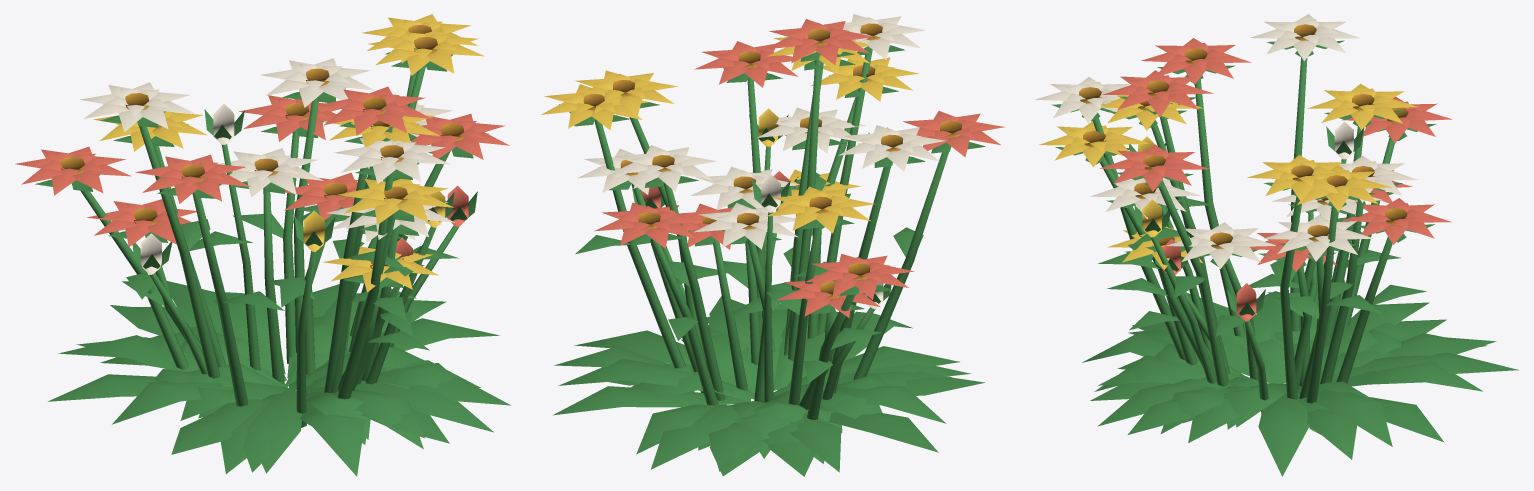
Rendered from flower_clump.glb.
3 views of the same model, side by side, from view 1: azimuth 30°, elevation 25°; view 2: azimuth 150°, elevation 25°; view 3: azimuth 270°, elevation 25° (orthographic). The views are drawn at different scales.
Parts seen in each view (by area): view 1: flower_clump_leaves, flower_clump_stems, flower_clump_flowercoral, flower_clump_flowerwhite, flower_clump_floweryellow, flower_clump_centres; view 2: flower_clump_leaves, flower_clump_stems, flower_clump_flowercoral, flower_clump_flowerwhite, flower_clump_floweryellow, flower_clump_centres; view 3: flower_clump_leaves, flower_clump_stems, flower_clump_flowercoral, flower_clump_flowerwhite, flower_clump_floweryellow, flower_clump_centres.
Boxes of the visible parts, left/top/right/bottom form: flower_clump_leaves: left=35, top=52, right=510, bottom=476; flower_clump_stems: left=80, top=65, right=458, bottom=427; flower_clump_flowercoral: left=15, top=86, right=509, bottom=257; flower_clump_flowerwhite: left=80, top=58, right=454, bottom=274; flower_clump_floweryellow: left=93, top=14, right=484, bottom=292; flower_clump_centres: left=61, top=24, right=463, bottom=268; flower_clump_leaves: left=553, top=37, right=985, bottom=476; flower_clump_stems: left=594, top=49, right=948, bottom=419; flower_clump_flowercoral: left=594, top=19, right=1004, bottom=317; flower_clump_flowerwhite: left=577, top=14, right=945, bottom=309; flower_clump_floweryellow: left=541, top=31, right=918, bottom=233; flower_clump_centres: left=583, top=23, right=961, bottom=298; flower_clump_leaves: left=1051, top=40, right=1518, bottom=476; flower_clump_stems: left=1093, top=57, right=1394, bottom=413; flower_clump_flowercoral: left=1099, top=38, right=1451, bottom=321; flower_clump_flowerwhite: left=1035, top=14, right=1418, bottom=269; flower_clump_floweryellow: left=1039, top=83, right=1418, bottom=270; flower_clump_centres: left=1079, top=24, right=1408, bottom=252.
Size of the model in its own units: 0.6574 by 0.5097 by 0.7093.
